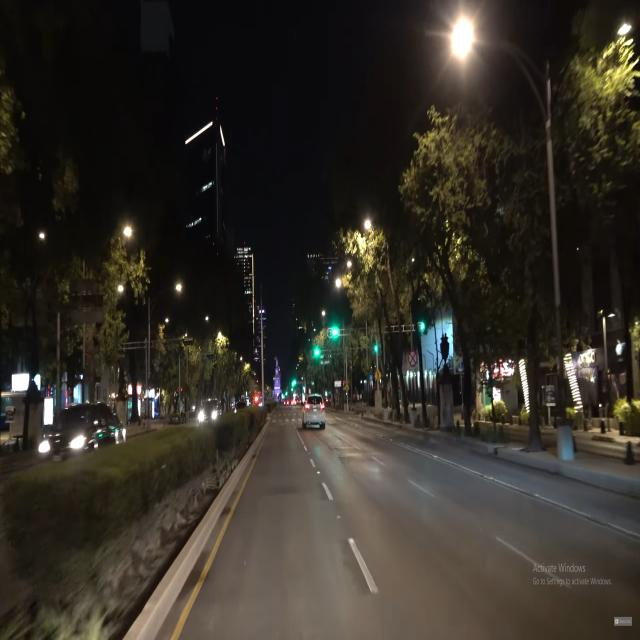headlights: (31, 426, 92, 463), (194, 404, 219, 427)
